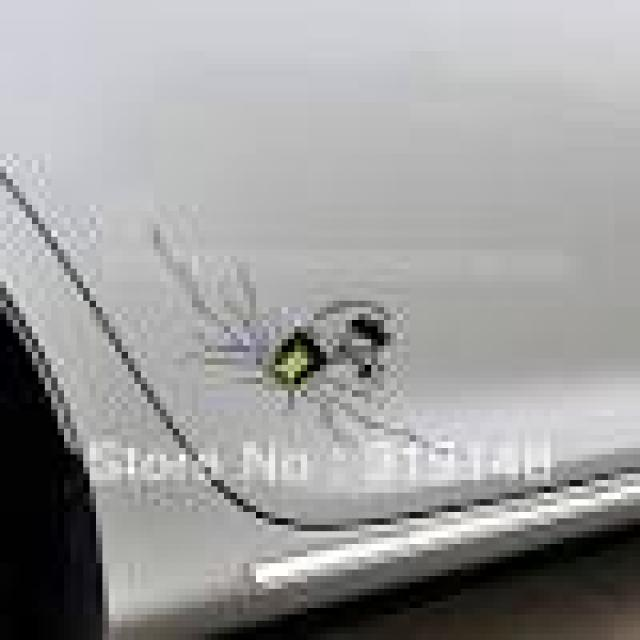minor: (94, 128, 532, 493)
